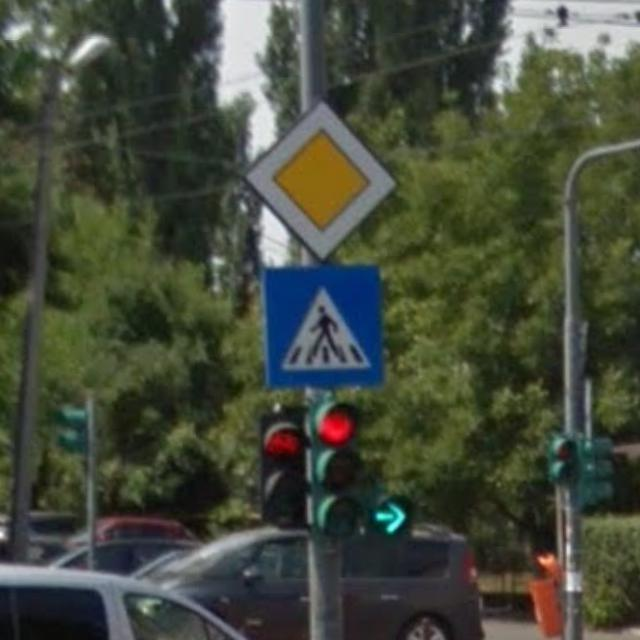info_crosswalk: (262, 264, 381, 389)
